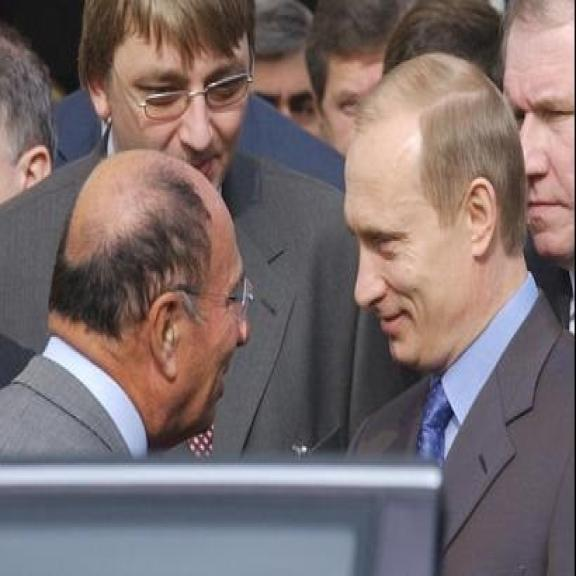face: (344, 116, 498, 368), (82, 26, 256, 197), (154, 177, 253, 450), (499, 11, 576, 272)
